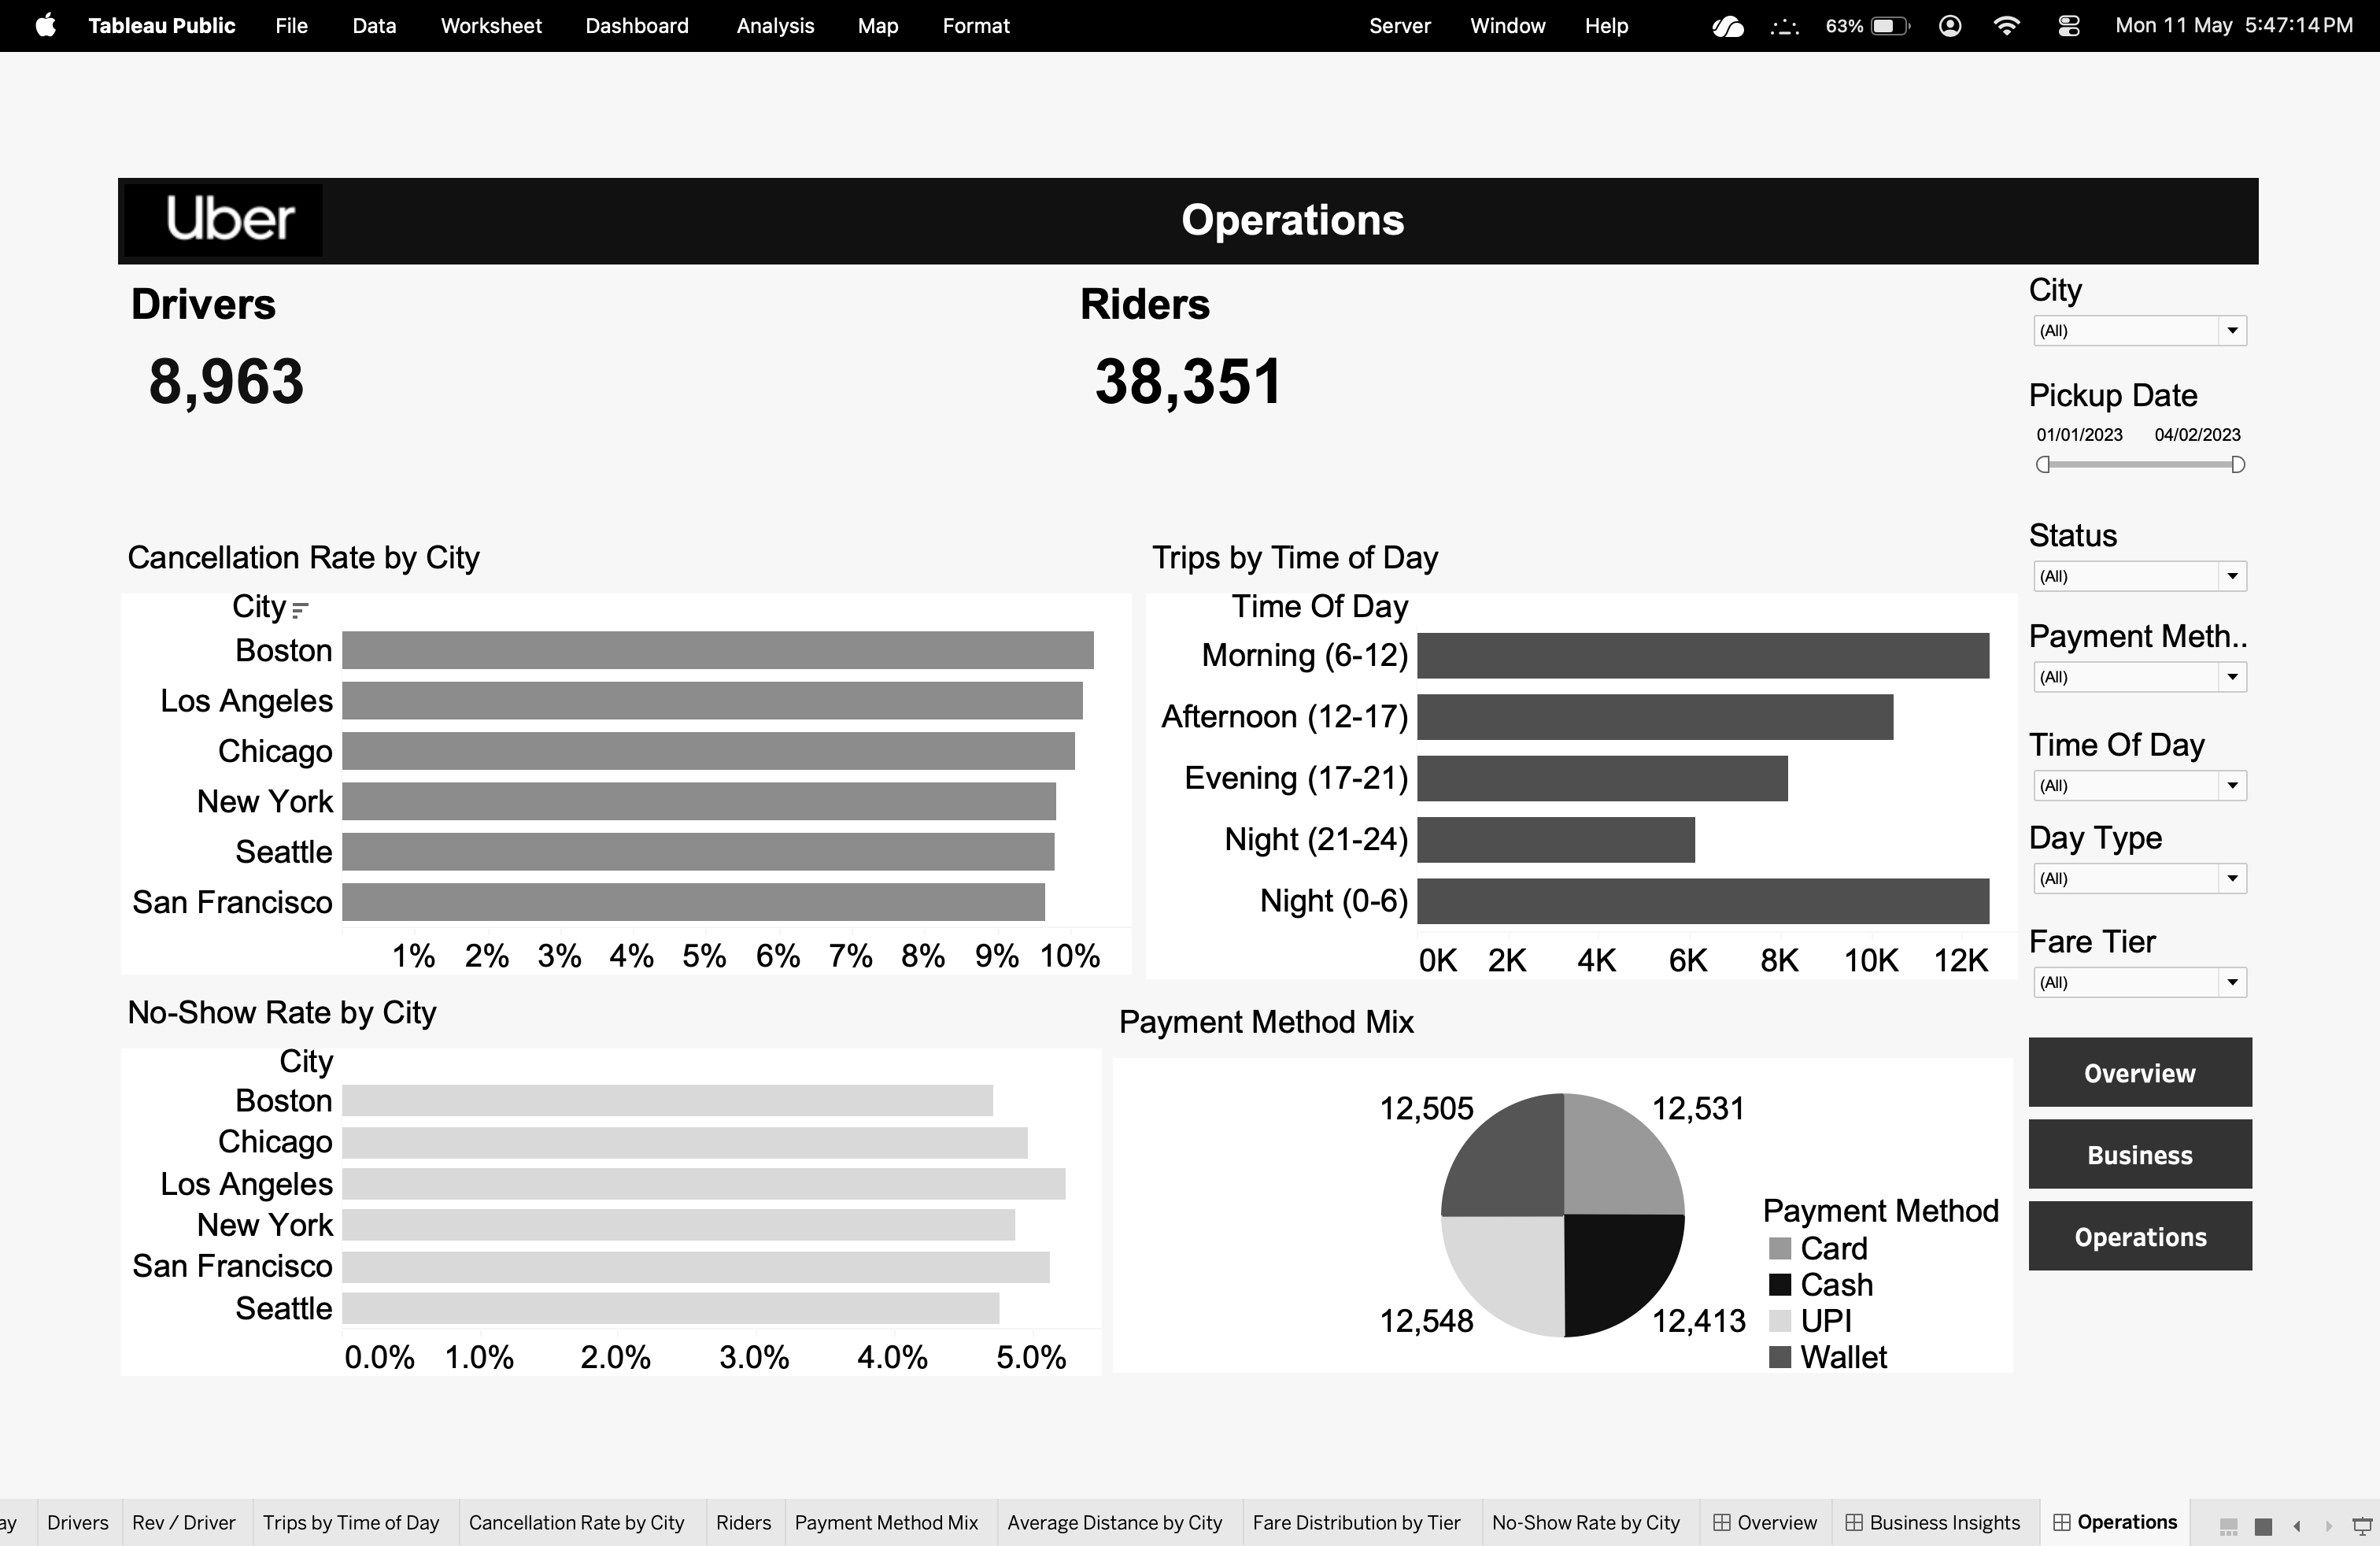

What the dashboard file says about the page in this screenshot:
{"tool":"tableau","page":{"name":"Operations","canvas":[1366,768],"ordinal":1},"visuals":[{"type":"image","param":"Image/Screenshot 2026-03-15 at 1.22.16 PM.png","box":[2,5,134,55]},{"type":"text","box":[136,5,1226,55]},{"type":"filter","title":"Filters","param":"[federated.15wm6x10a793qk11a4zd71k7cxxn].[none:city:nk]","box":[1212,61,150,67]},{"type":"worksheet","title":"Drivers","mark":"Text","box":[2,62,603,137]},{"type":"worksheet","title":"Riders","mark":"Text","box":[605,62,603,137]},{"type":"filter","title":"Filters","param":"[federated.15wm6x10a793qk11a4zd71k7cxxn].[none:pickup_date:qk]","box":[1212,128,150,89]},{"type":"filter","title":"Filters","param":"[federated.15wm6x10a793qk11a4zd71k7cxxn].[none:status:nk]","box":[1212,217,150,64]},{"type":"worksheet","title":"Cancellation Rate by City","mark":"Automatic","rows":["city"],"cols":["Calculation_2166862617210887"],"box":[4,231,642,280]},{"type":"worksheet","title":"Trips by Time of Day","mark":"Automatic","rows":["time_of_day"],"cols":["Calculation_2166862616805376"],"box":[655,231,554,283]},{"type":"filter","title":"Filters","param":"[federated.15wm6x10a793qk11a4zd71k7cxxn].[none:payment_method:nk]","box":[1212,281,150,69]},{"type":"filter","title":"Filters","param":"[federated.15wm6x10a793qk11a4zd71k7cxxn].[none:time_of_day:nk]","box":[1212,350,150,59]},{"type":"filter","title":"Filters","param":"[federated.15wm6x10a793qk11a4zd71k7cxxn].[none:day_type:nk]","box":[1212,409,150,66]},{"type":"filter","title":"Filters","param":"[federated.15wm6x10a793qk11a4zd71k7cxxn].[none:fare_tier:nk]","box":[1212,475,150,72]},{"type":"worksheet","title":"No-Show Rate by City","mark":"Automatic","rows":["city"],"cols":["Calculation_2166862617260040"],"box":[4,520,623,246]},{"type":"worksheet","title":"Payment Method Mix","mark":"Pie","box":[634,526,572,238]},{"type":"dashboard-object","box":[1212,547,150,52]},{"type":"dashboard-object","box":[1212,599,150,52]},{"type":"legend","title":"Payment Method Mix","param":"[federated.15wm6x10a793qk11a4zd71k7cxxn].[none:payment_method:nk]","box":[1047,650,156,116]},{"type":"dashboard-object","box":[1212,651,150,52]},{"type":"worksheet","title":"Filters","mark":"Automatic","box":[1241,717,77,47]}]}

Visuals, with their boxes on the page's 1366x768 design canvas (x1, y1, x2, y2). These are canvas units, not pixel positions in the 2380x1546 screenshot, which may show the page scaled, cropped or inside an application window:
image: (2, 5, 136, 60)
text: (136, 5, 1362, 60)
"Filters" filter: (1212, 61, 1362, 128)
"Drivers" worksheet (Text marks): (2, 62, 605, 199)
"Riders" worksheet (Text marks): (605, 62, 1208, 199)
"Filters" filter: (1212, 128, 1362, 217)
"Filters" filter: (1212, 217, 1362, 281)
"Cancellation Rate by City" worksheet: (4, 231, 646, 511)
"Trips by Time of Day" worksheet: (655, 231, 1209, 514)
"Filters" filter: (1212, 281, 1362, 350)
"Filters" filter: (1212, 350, 1362, 409)
"Filters" filter: (1212, 409, 1362, 475)
"Filters" filter: (1212, 475, 1362, 547)
"No-Show Rate by City" worksheet: (4, 520, 627, 766)
"Payment Method Mix" worksheet (Pie marks): (634, 526, 1206, 764)
dashboard-object: (1212, 547, 1362, 599)
dashboard-object: (1212, 599, 1362, 651)
"Payment Method Mix" legend: (1047, 650, 1203, 766)
dashboard-object: (1212, 651, 1362, 703)
"Filters" worksheet: (1241, 717, 1318, 764)
